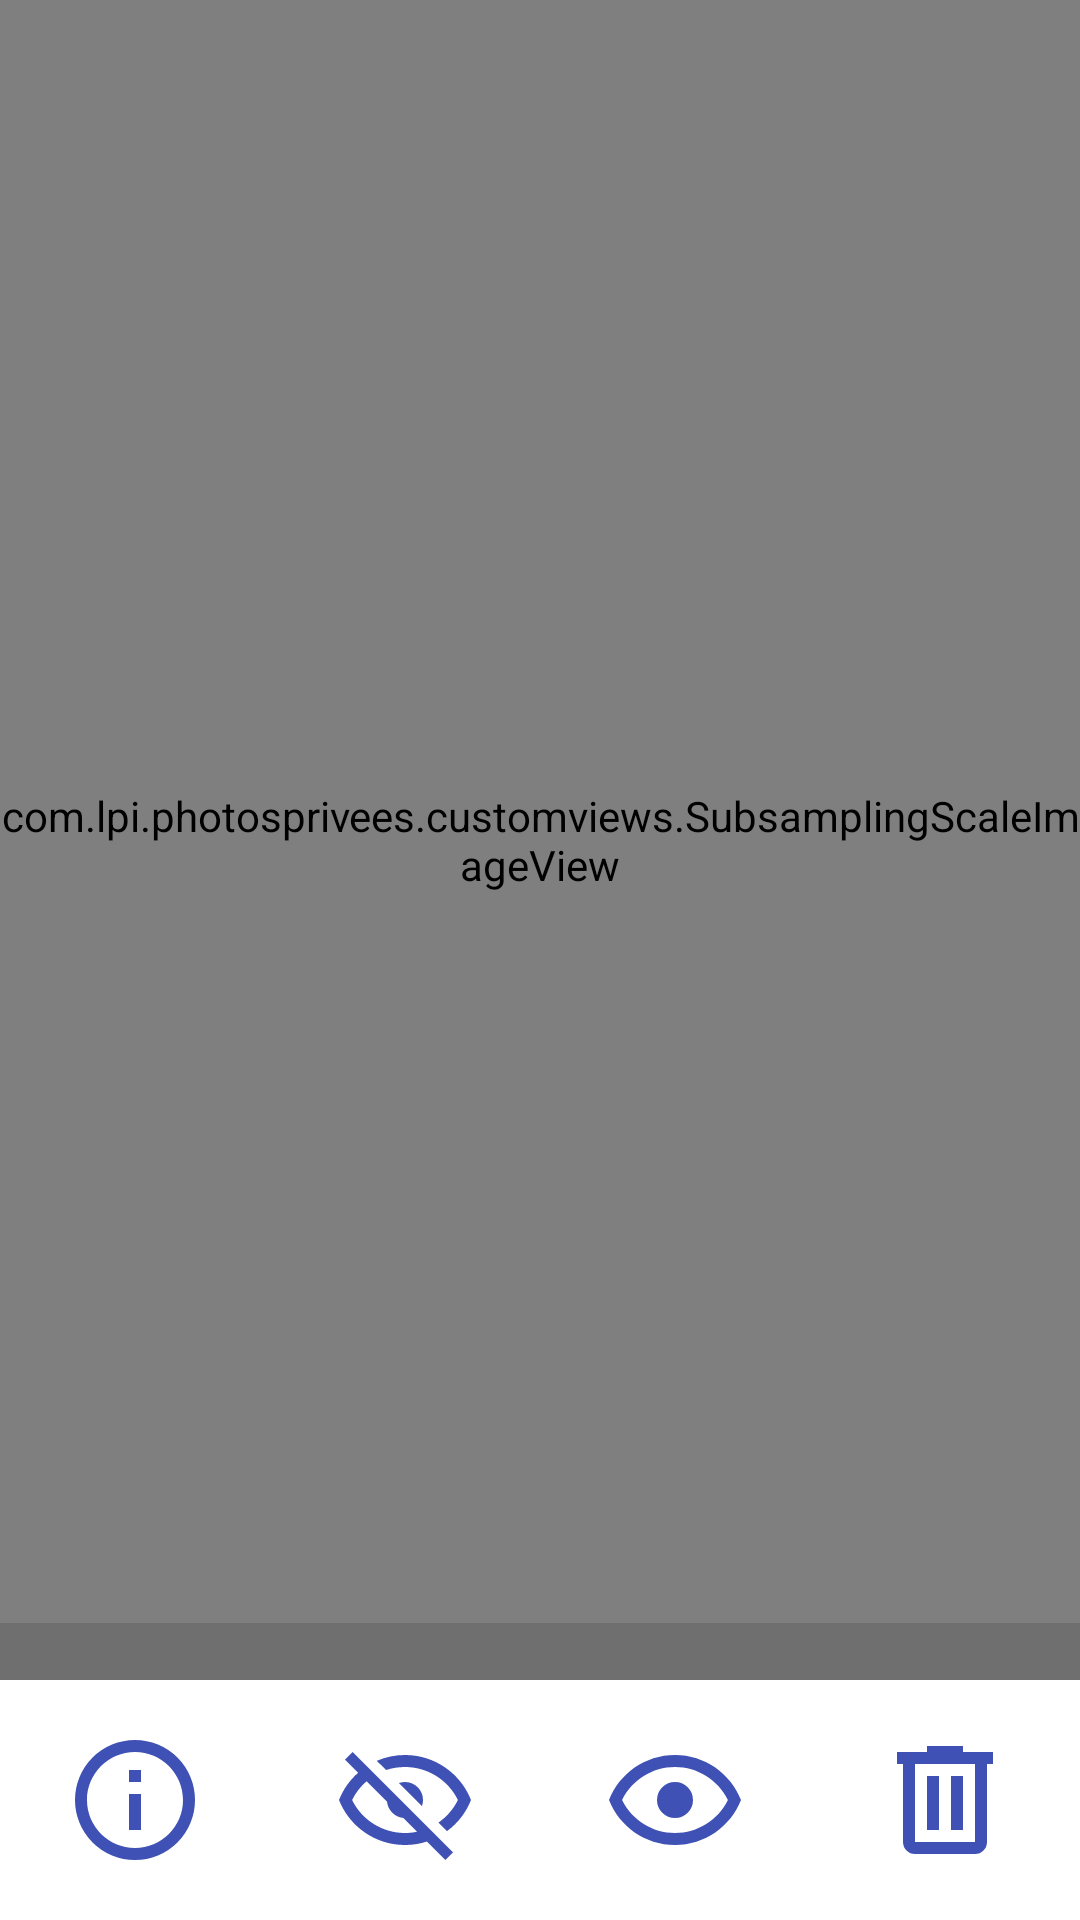

Icon click points for this 1080 x 1920 phone screenshot, format (x=x, y=y):
information: (x=135, y=1800)
trash can: (x=945, y=1800)
voir prive: (x=405, y=1806)
voir public: (x=675, y=1800)
